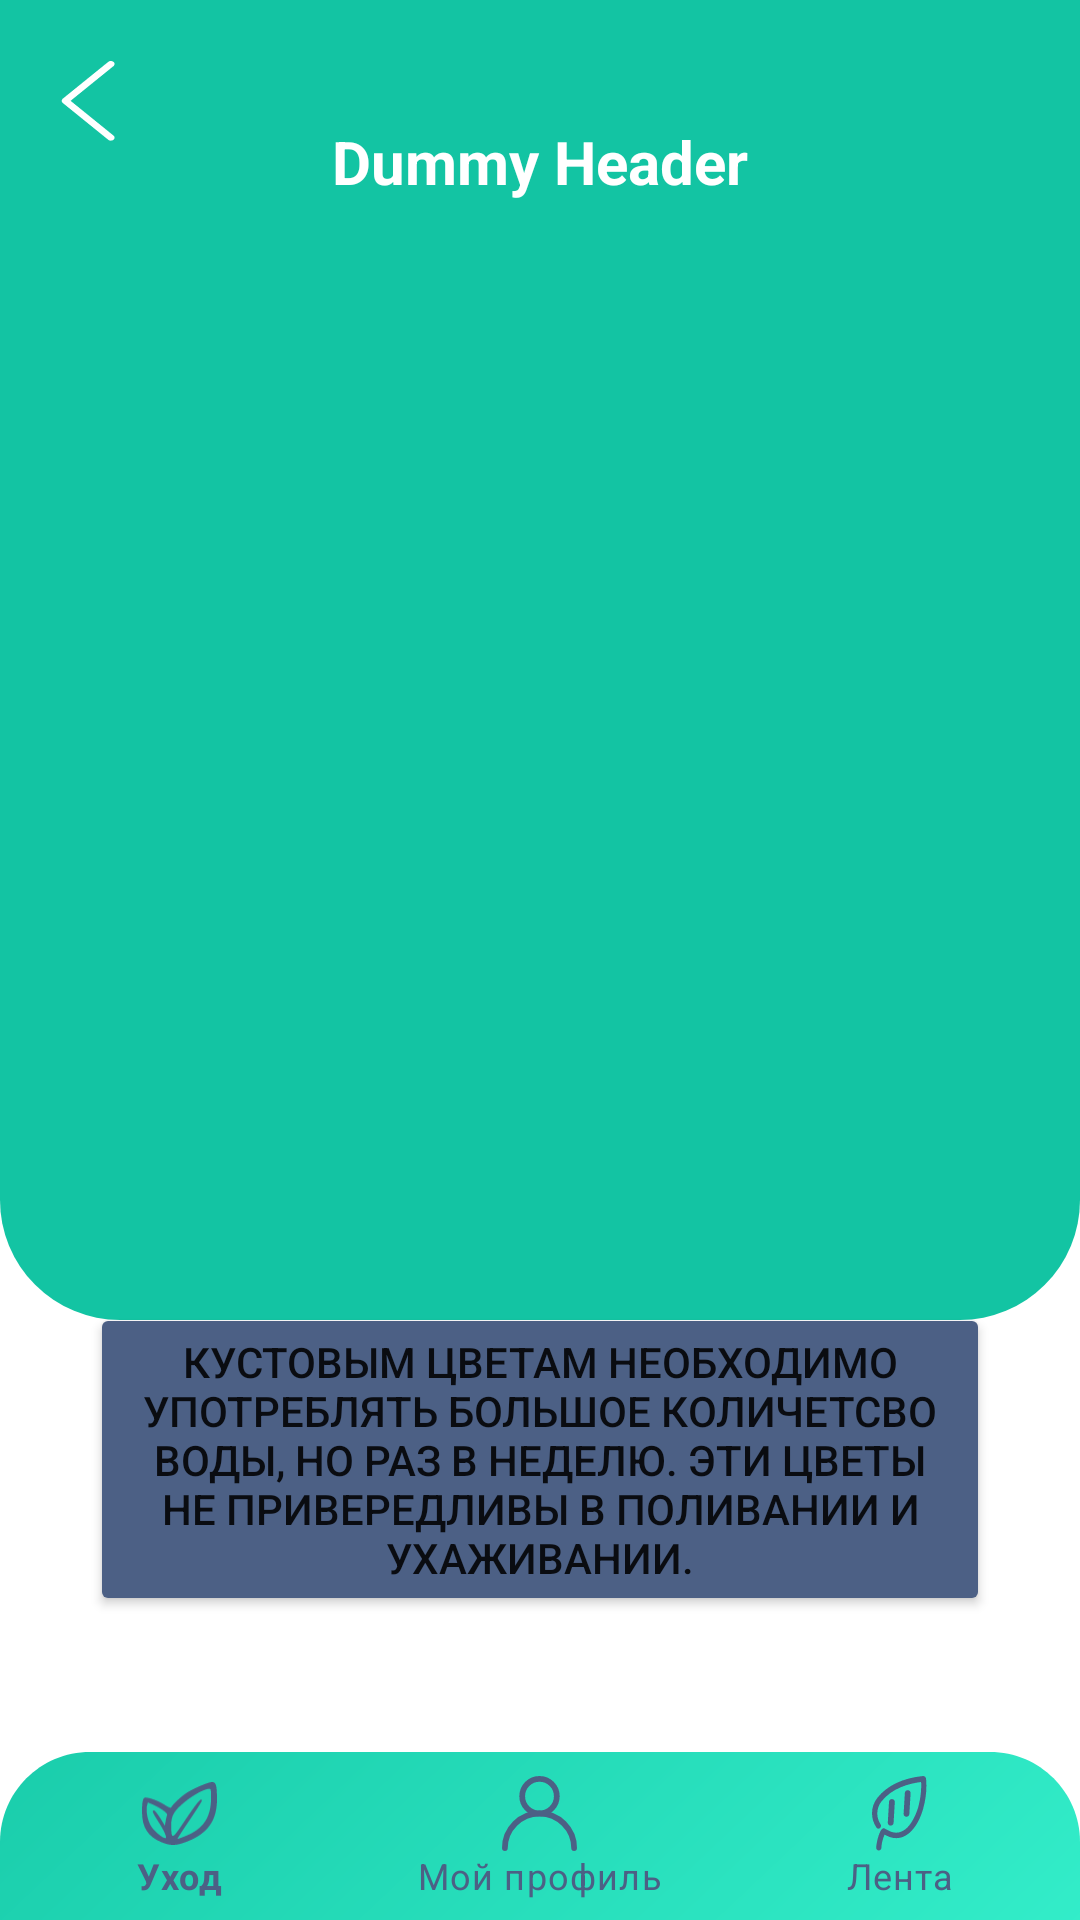

Named icons in this screenshot (1080px×1920px) and their bounding boxes, (x1, y1, x2, y2):
backtrhrow: (61, 61, 115, 141)
